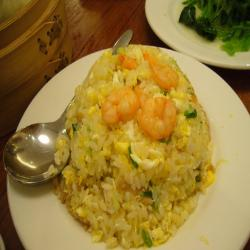rice: (63, 54, 206, 237)
